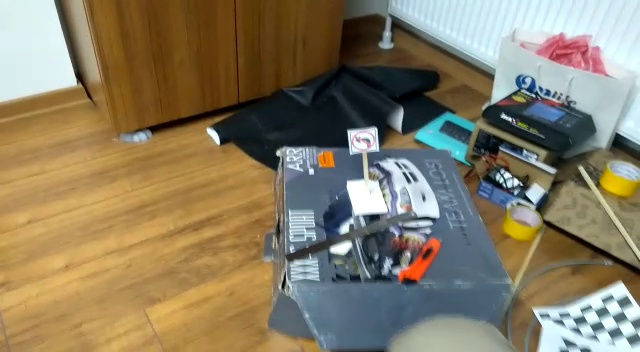sola_donulmez: (349, 130, 378, 152)
